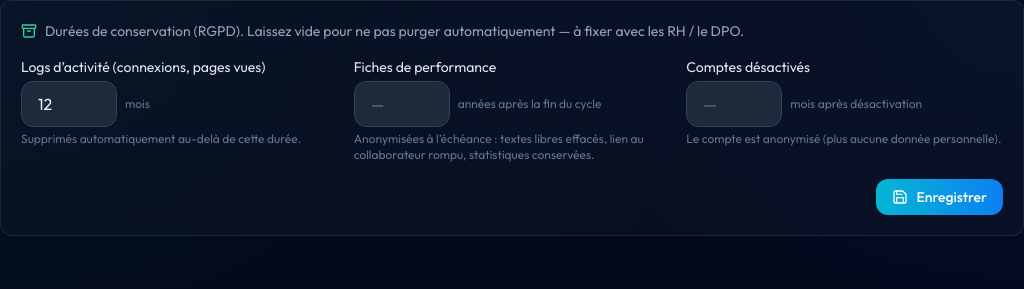
Test: RetentionSettingsPanel › affiche les erreurs de validation du serveur
The image size is (1024, 289).
Expected: the number field labelled "Logs d’activité (connexions, pages vues)" is shown, [21, 81, 117, 127]
Click the button "Enregistrer". click: x=940, y=197
box: [876, 179, 1003, 215]
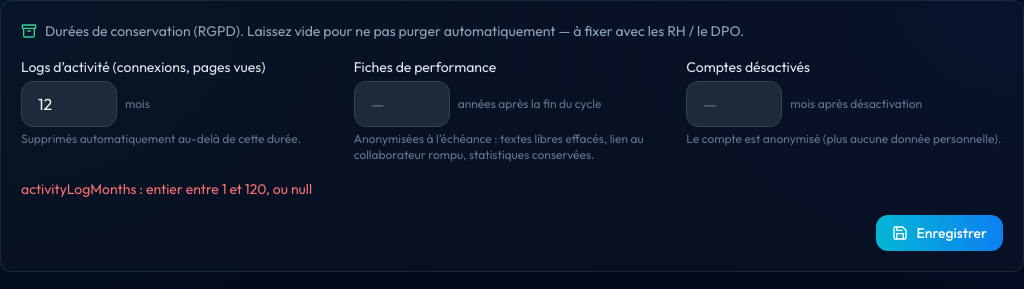
Expected: the text "activityLogMonths : entier entre 1 et 120, ou null" is shown, [21, 180, 312, 198]
